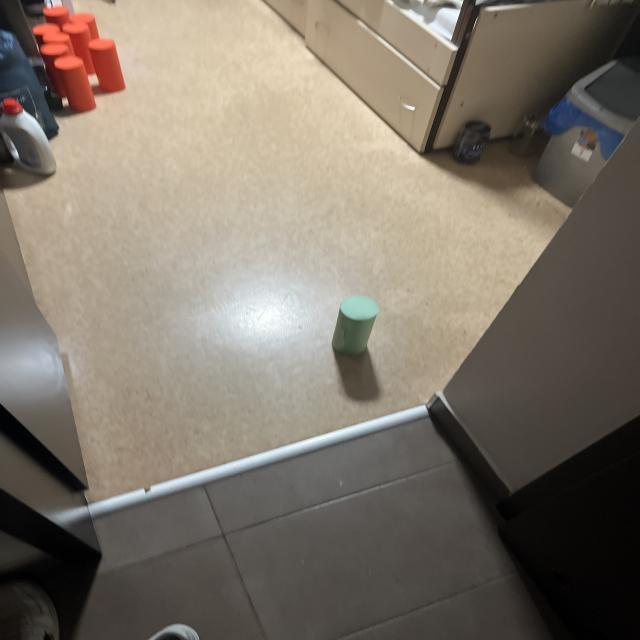meta: (332, 296, 379, 354)
